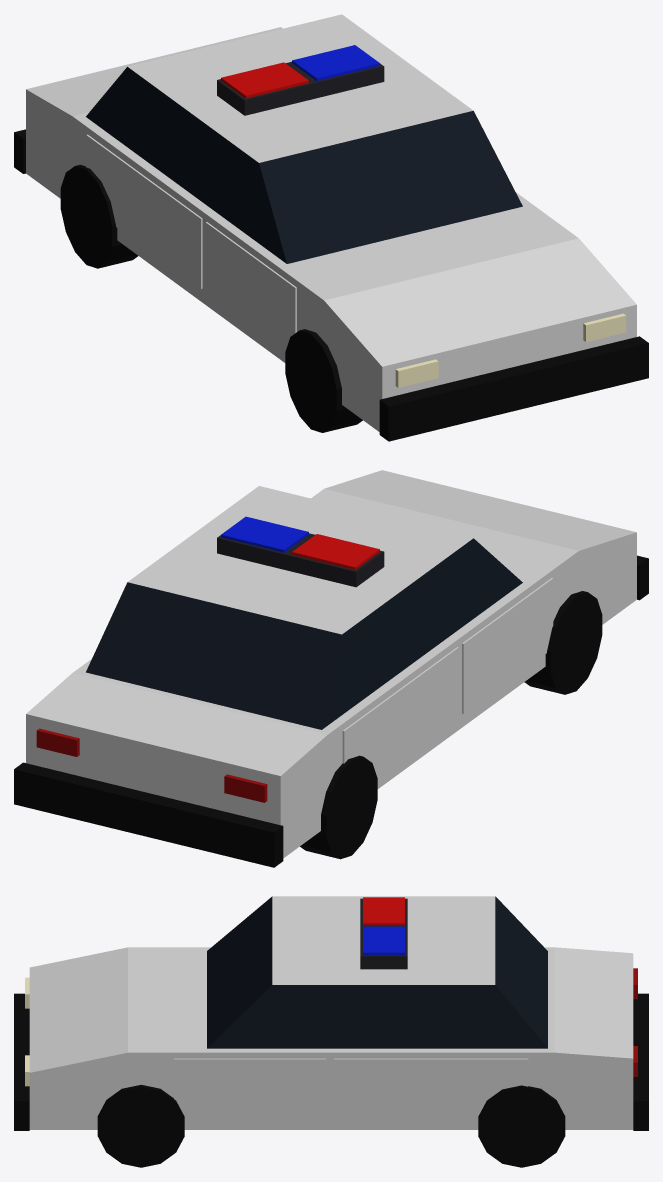
The model's file is PoliceCar.fbx.
3 renders of one model, top to bottom at view 1: azimuth 30°, elevation 25°; view 2: azimuth 150°, elevation 25°; view 3: azimuth 270°, elevation 25°, orthographic. The views are drawn at different scales.
Parts seen in each view (by area): view 1: PoliceCar; view 2: PoliceCar; view 3: PoliceCar.
Boxes of the visible parts, x1,y1,x2,y2 form: PoliceCar: [14, 14, 648, 441]; PoliceCar: [14, 470, 648, 867]; PoliceCar: [14, 896, 648, 1167].
Bounding box in the file's own units: 1.98 × 1.58 × 4.84.
